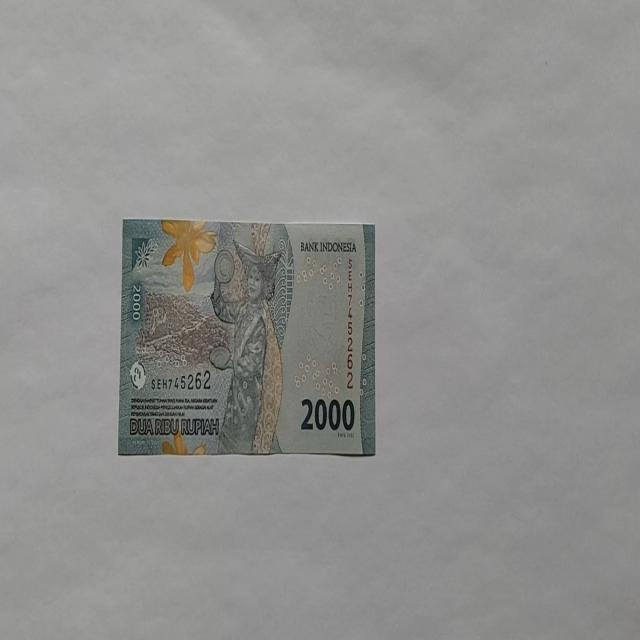dua ribu rupiah: (118, 218, 376, 458), (209, 238, 284, 454)
